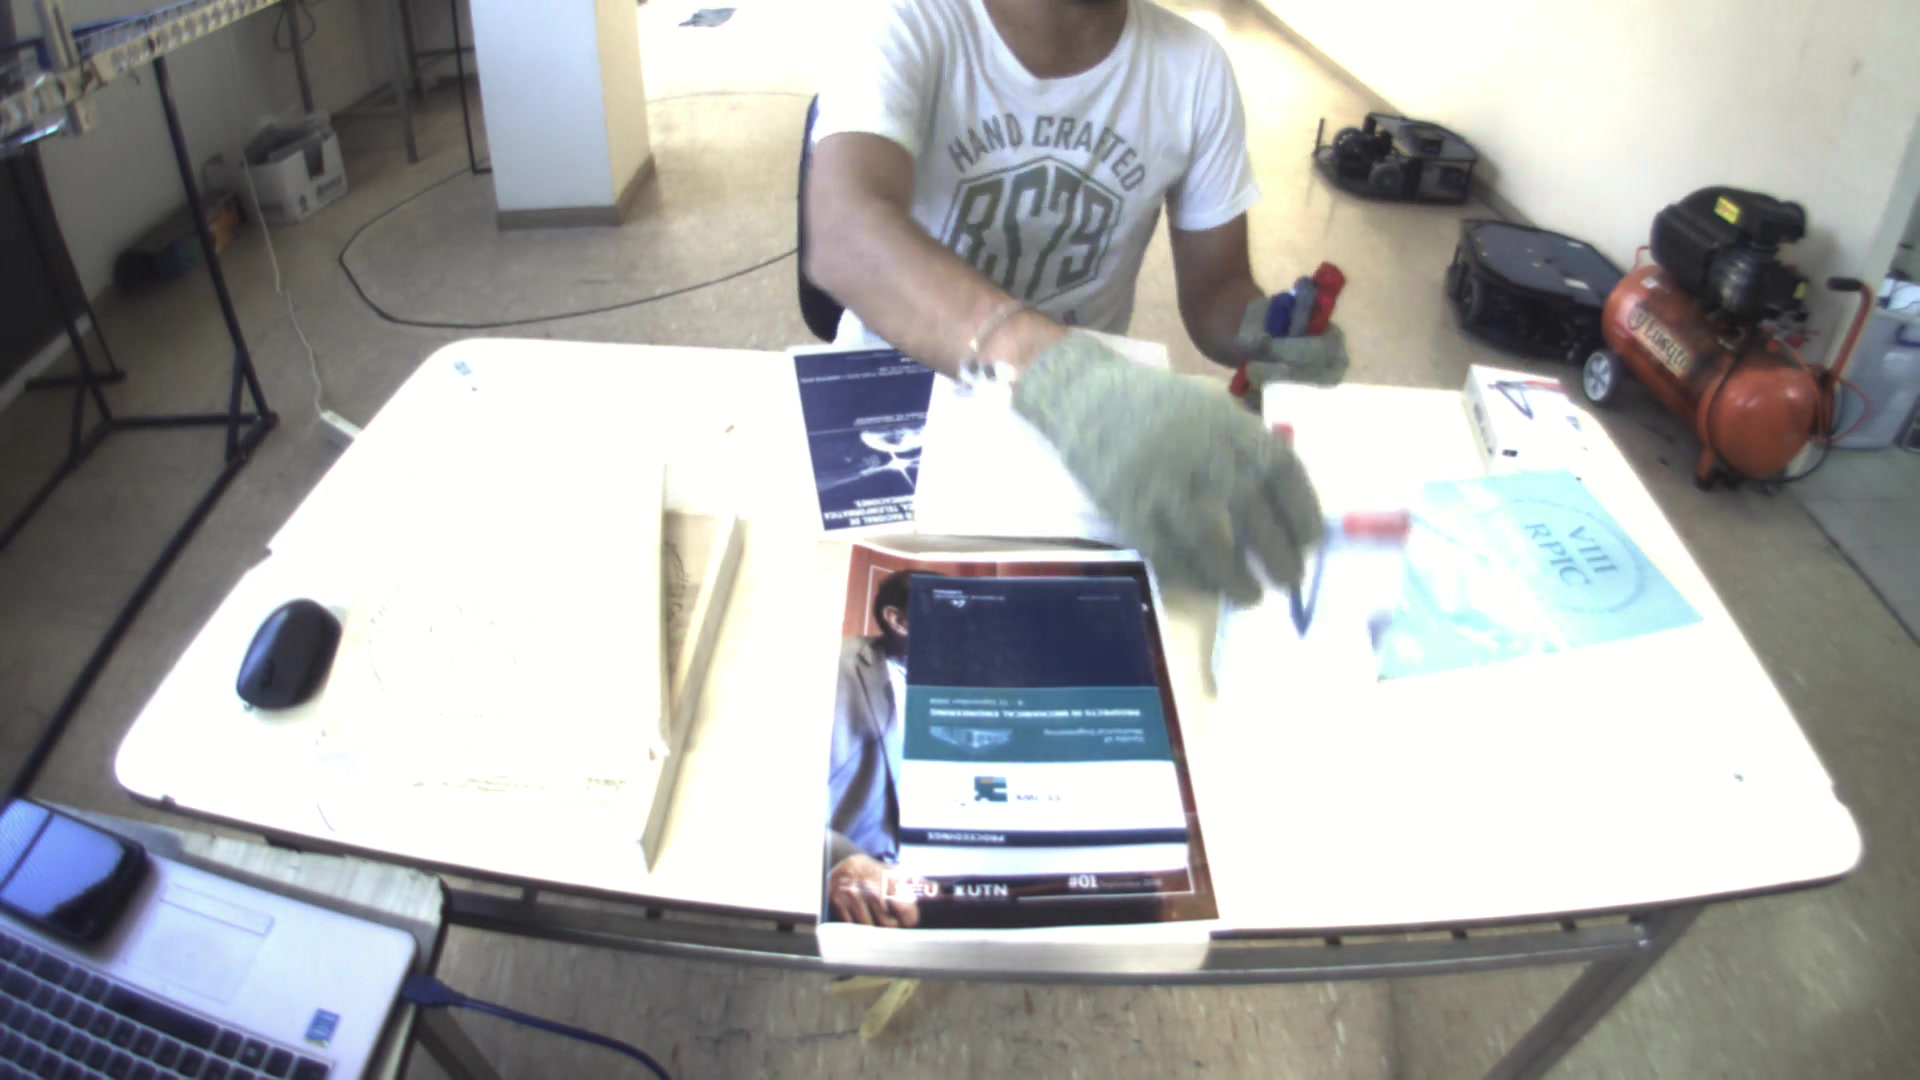hand: (1001, 332, 1329, 613), (1233, 289, 1353, 396)
